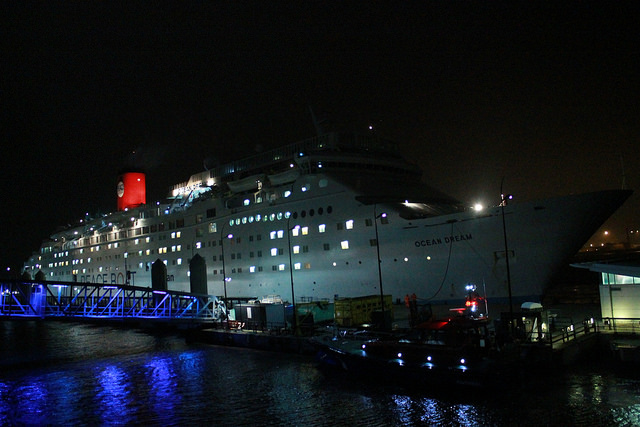cruise_ship: (19, 95, 566, 302)
